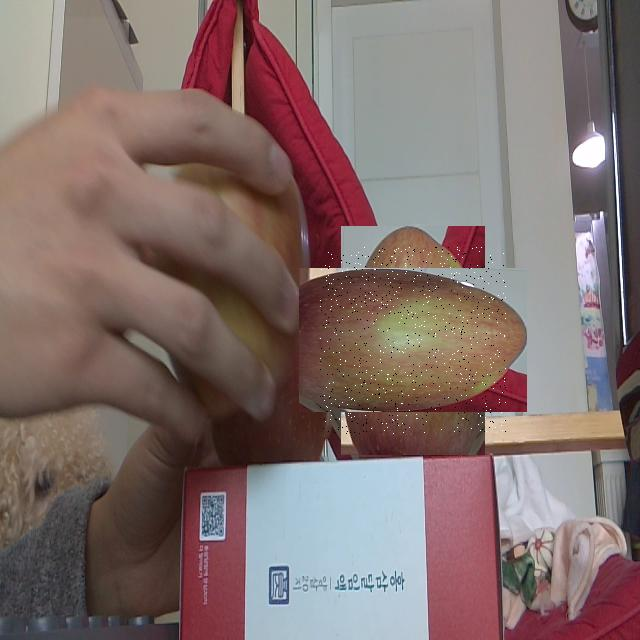apple: (320, 247, 506, 434)
